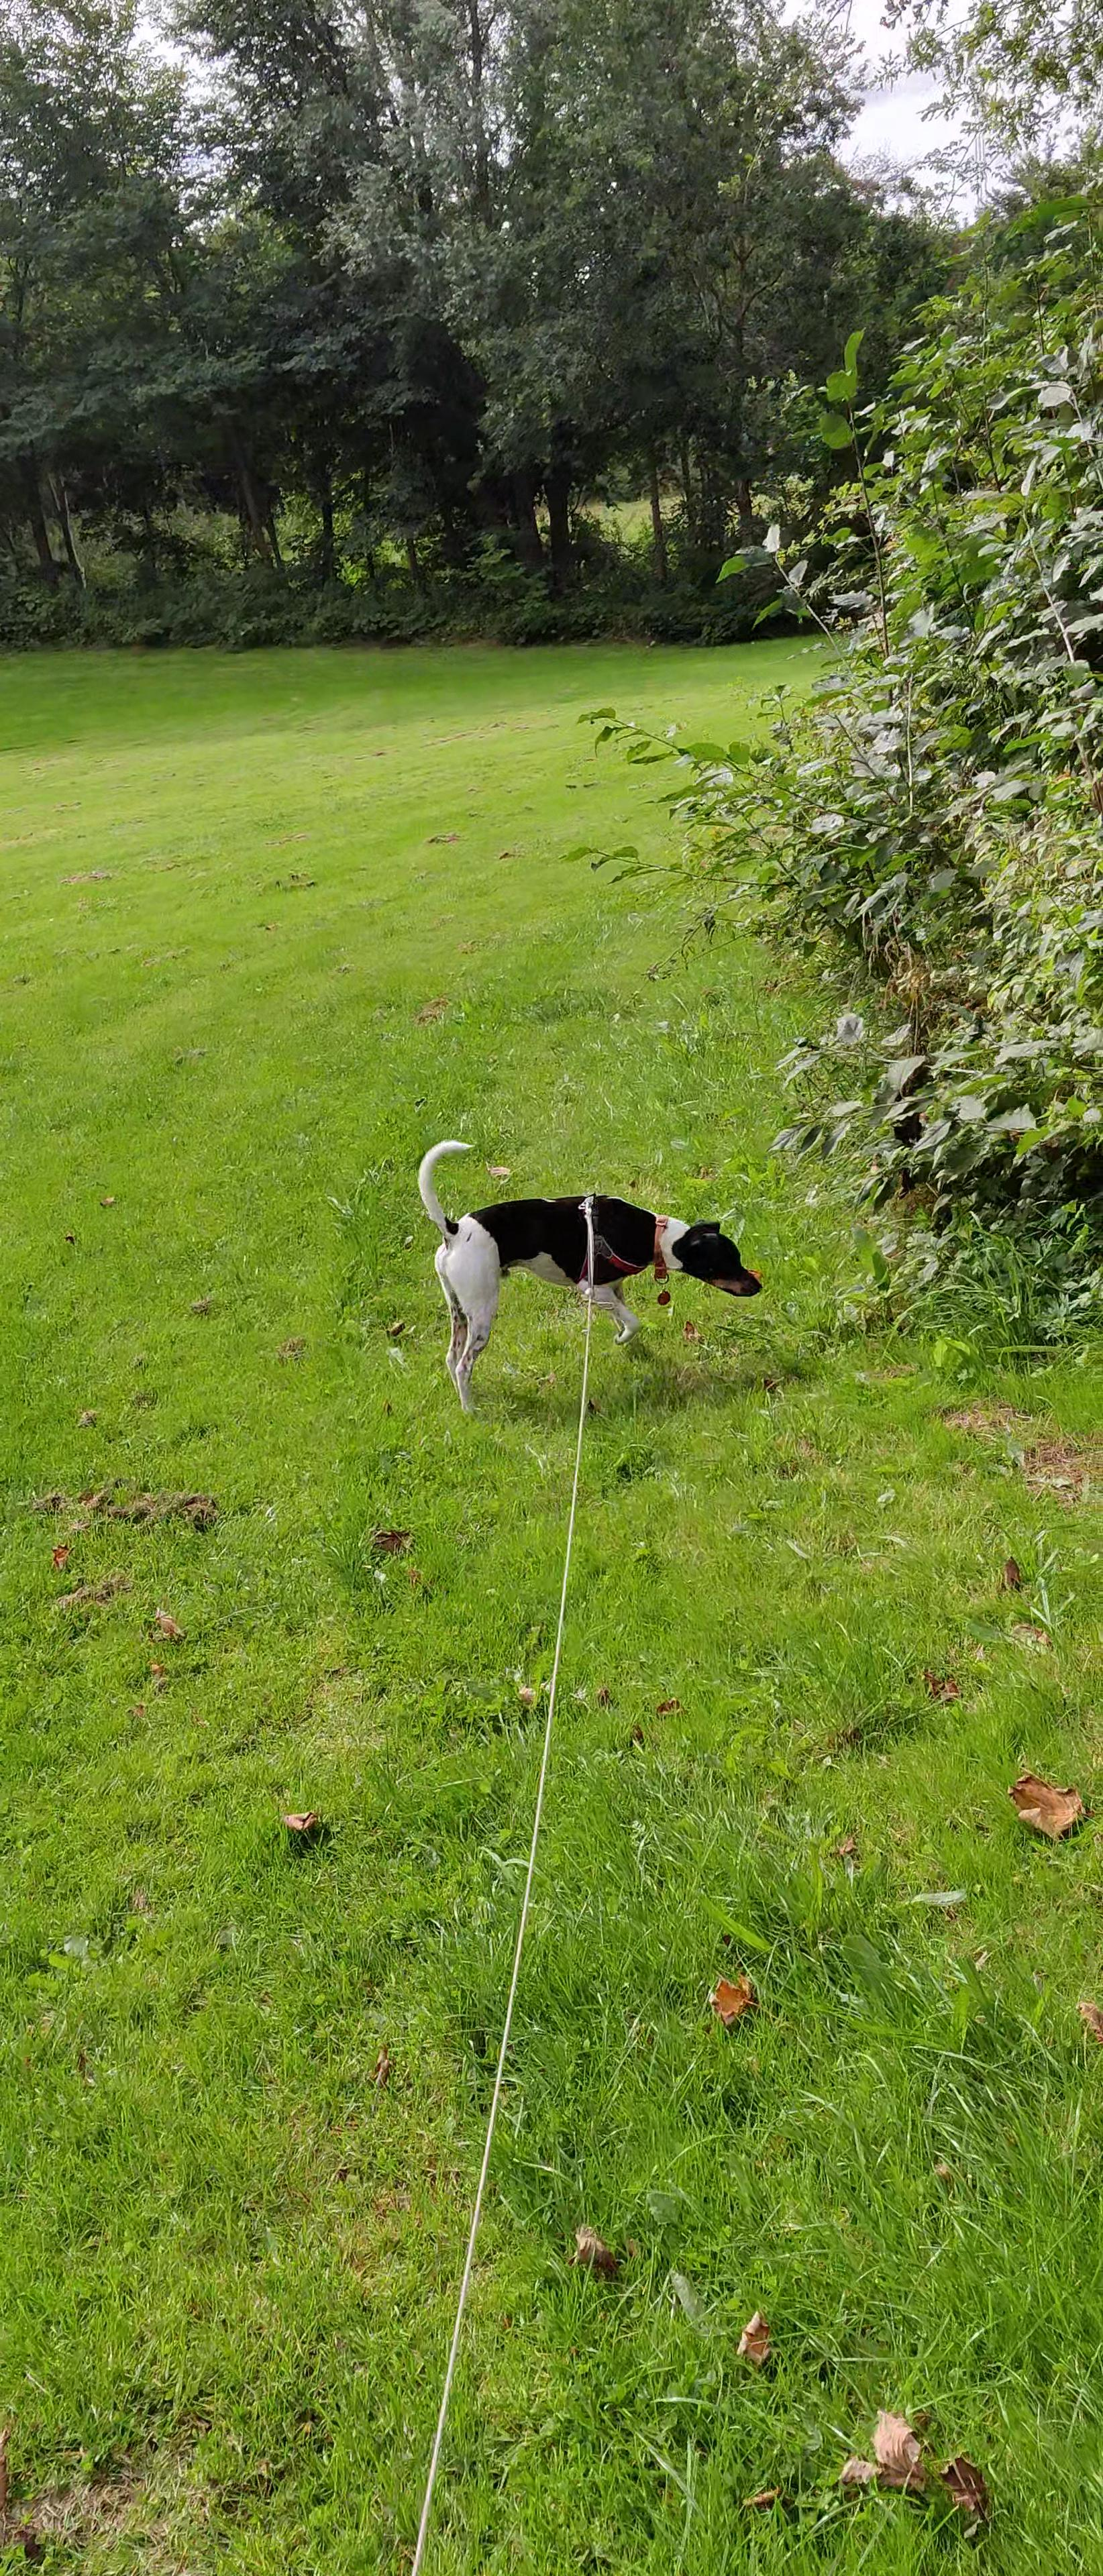Dog: (406, 1130, 764, 1416)
